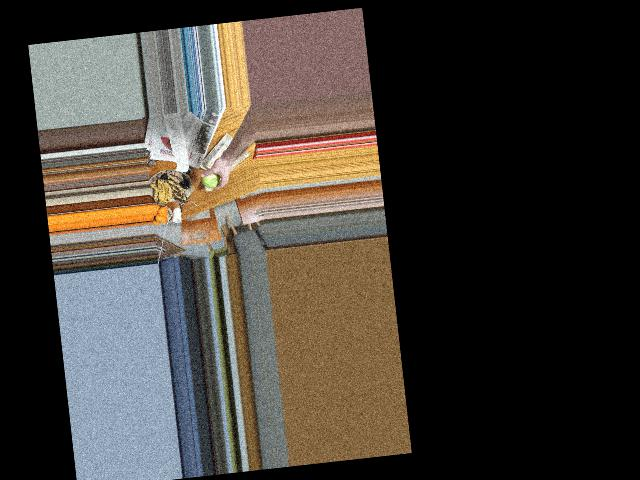apple: (198, 166, 224, 192)
